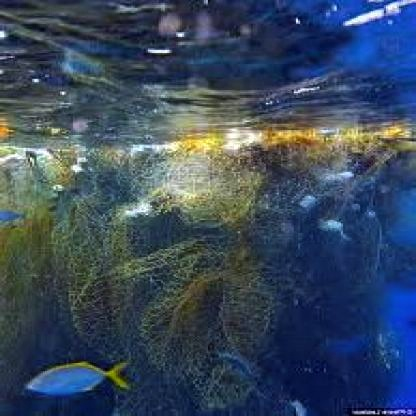net: (17, 149, 358, 400)
